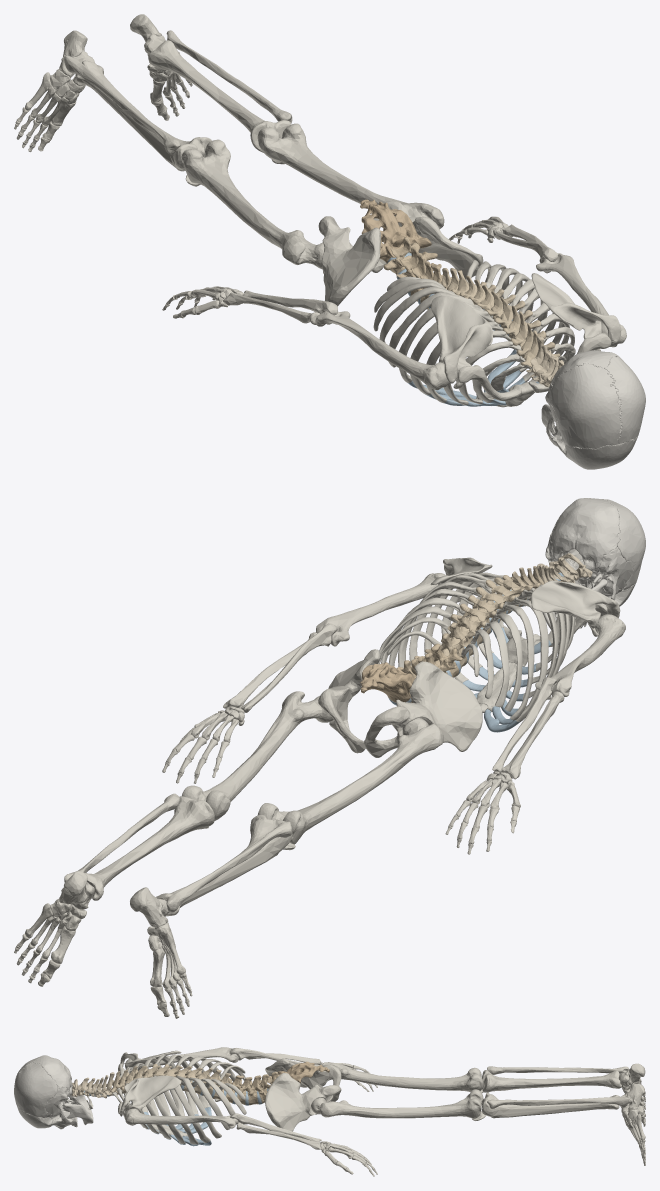
Rendered from skeleton.glb.
3 renders of one model, top to bottom at view 1: azimuth 30°, elevation 25°; view 2: azimuth 150°, elevation 25°; view 3: azimuth 270°, elevation 25°, orthographic. The views are drawn at different scales.
Parts seen in each view (by area): view 1: cranium, ribs, femur, scapula, hip_bone, tibia, humerus, thoracic_vertebrae, fibula, tarsals, sacrum, metatarsals (+8 smaller); view 2: ribs, femur, hip_bone, cranium, tibia, humerus, thoracic_vertebrae, scapula, tarsals, fibula, metatarsals, hand_phalanges (+9 smaller); view 3: ribs, femur, cranium, hip_bone, tibia, fibula, scapula, humerus, thoracic_vertebrae, tarsals, lumbar_vertebrae, ulna (+10 smaller).
Boxes of the visible parts, box(x1,y1,x2,y2) form: cranium: box(545, 350, 645, 469); ribs: box(373, 260, 575, 405); femur: box(181, 123, 444, 269); scapula: box(431, 273, 621, 388); hip_bone: box(318, 200, 483, 306); tibia: box(76, 40, 291, 171); humerus: box(315, 254, 626, 390); thoracic_vertebrae: box(439, 268, 560, 367); fibula: box(64, 30, 292, 154); tarsals: box(50, 14, 171, 104); sacrum: box(360, 199, 431, 263); metatarsals: box(25, 72, 181, 126); ribs: box(378, 572, 575, 721); femur: box(182, 691, 443, 844); hip_bone: box(318, 649, 482, 757); cranium: box(545, 498, 645, 628); tibia: box(85, 796, 292, 916); humerus: box(315, 573, 625, 696); thoracic_vertebrae: box(440, 566, 544, 668); scapula: box(430, 557, 620, 636); tarsals: box(50, 871, 174, 951); fibula: box(64, 793, 291, 912); metatarsals: box(25, 903, 185, 988); hand_phalanges: box(162, 727, 519, 854); ribs: box(112, 1054, 246, 1144); femur: box(311, 1062, 483, 1118); cranium: box(14, 1055, 77, 1129); hip_bone: box(265, 1058, 341, 1131); tibia: box(481, 1070, 621, 1118); fibula: box(487, 1066, 629, 1108); scapula: box(120, 1050, 181, 1116); humerus: box(125, 1047, 238, 1128); thoracic_vertebrae: box(110, 1064, 230, 1100); tarsals: box(619, 1063, 645, 1126); lumbar_vertebrae: box(226, 1071, 279, 1105); ulna: box(230, 1048, 321, 1141).
Bounding box in the file's own units: 648 × 254 × 1707.
